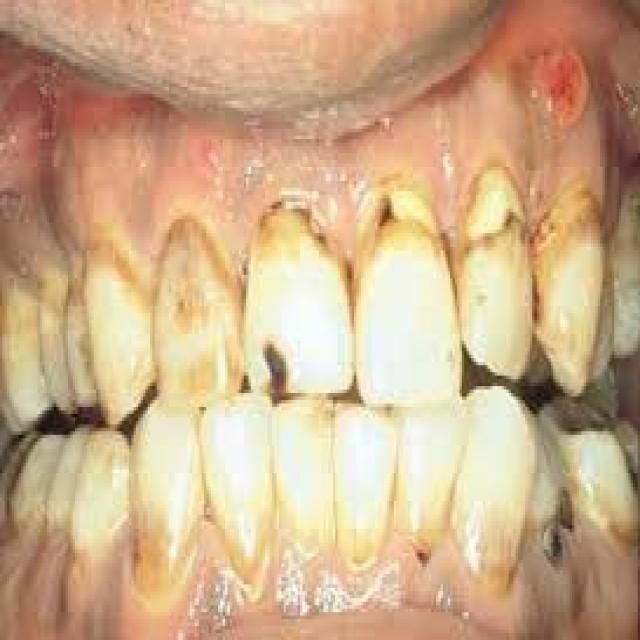Tooth Discoloration: (74, 165, 601, 398), (131, 485, 345, 621)
